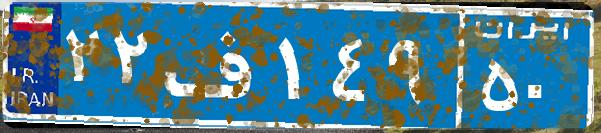0: (525, 38, 570, 115)
1: (273, 28, 330, 110)
2: (57, 26, 110, 107), (110, 28, 158, 105)
4: (330, 28, 385, 110)
5: (475, 38, 525, 113)
9: (385, 28, 445, 110)
ف: (158, 15, 273, 115)
